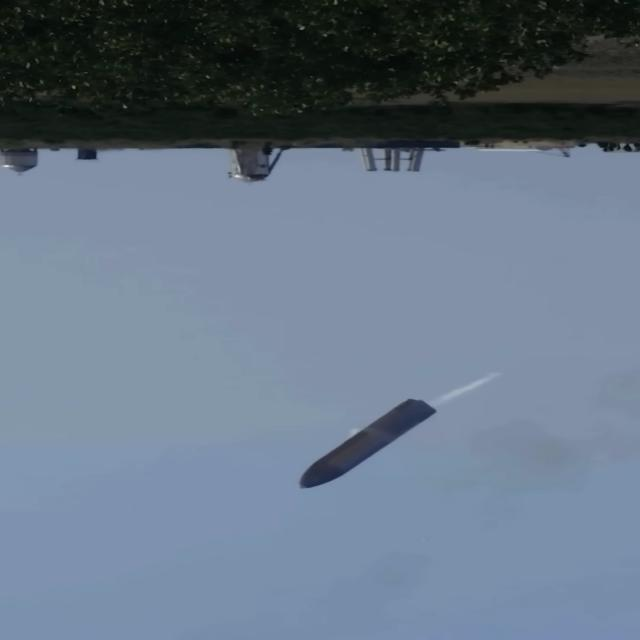missile: (303, 398, 437, 486)
